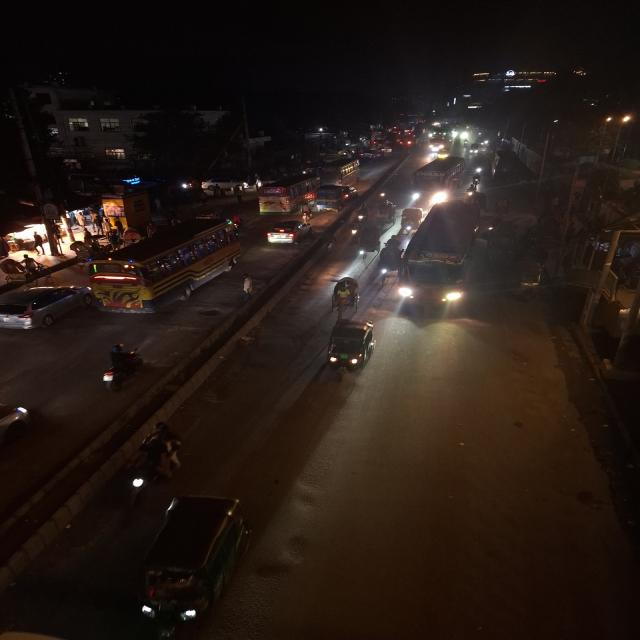bus: (83, 215, 244, 313), (397, 198, 486, 316), (409, 156, 465, 204), (254, 174, 319, 214), (318, 158, 361, 184)
car: (0, 283, 90, 331), (264, 218, 314, 247)
cng: (131, 491, 255, 640), (321, 319, 378, 380)
motorcycle: (123, 418, 188, 502), (95, 342, 144, 393), (352, 204, 369, 226), (298, 208, 313, 222), (377, 188, 389, 200)
pickup_van: (352, 207, 397, 253)
rickshaw: (322, 274, 364, 316), (0, 253, 52, 284), (398, 206, 423, 236), (64, 239, 92, 259)
truck: (310, 184, 357, 210)
